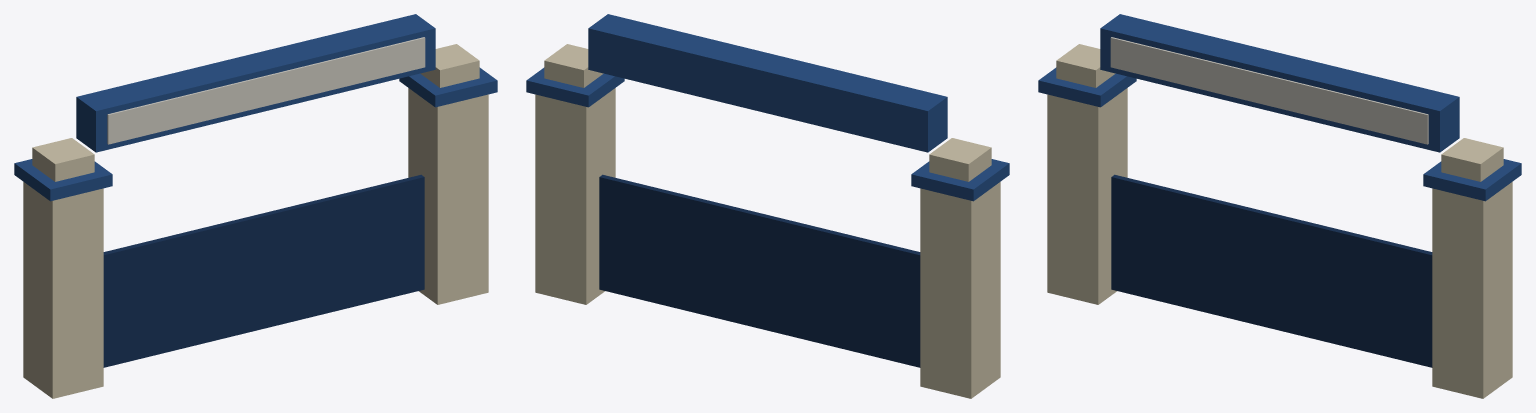
Rendered from ns_schoolgate_lod1.glb.
3 views of the same model, side by side, from view 1: azimuth 30°, elevation 25°; view 2: azimuth 150°, elevation 25°; view 3: azimuth 330°, elevation 25° (orthographic).
Visible parts, largest first — view 1: ns_schoolgate_lod1; view 2: ns_schoolgate_lod1; view 3: ns_schoolgate_lod1.
Part boxes in pixels (x1,y1,x2,y2): ns_schoolgate_lod1: (14, 14, 497, 398); ns_schoolgate_lod1: (526, 14, 1009, 398); ns_schoolgate_lod1: (1038, 14, 1521, 398).
Bounding box in the file's own units: 7.9 × 4.6 × 1.1.
